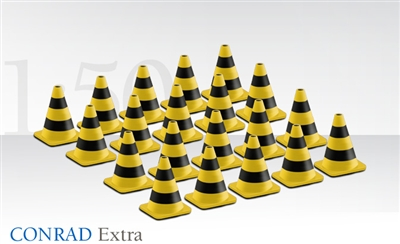blackC: (320, 114, 371, 190), (30, 84, 81, 156), (146, 154, 185, 224)
